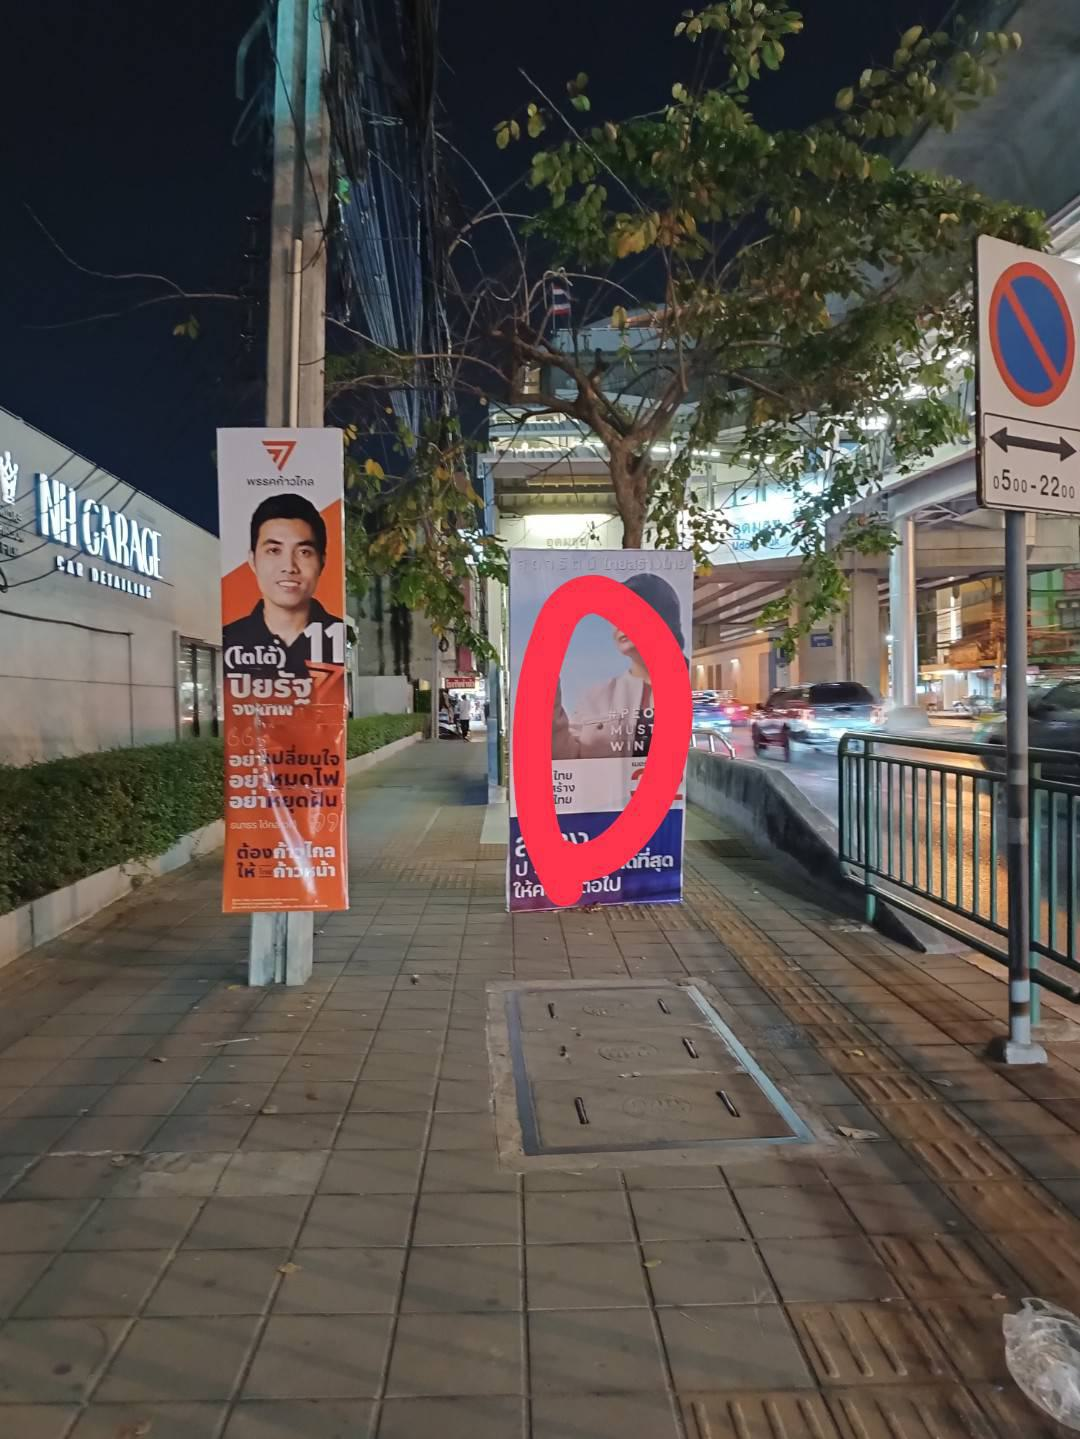Banner: (220, 430, 346, 914)
